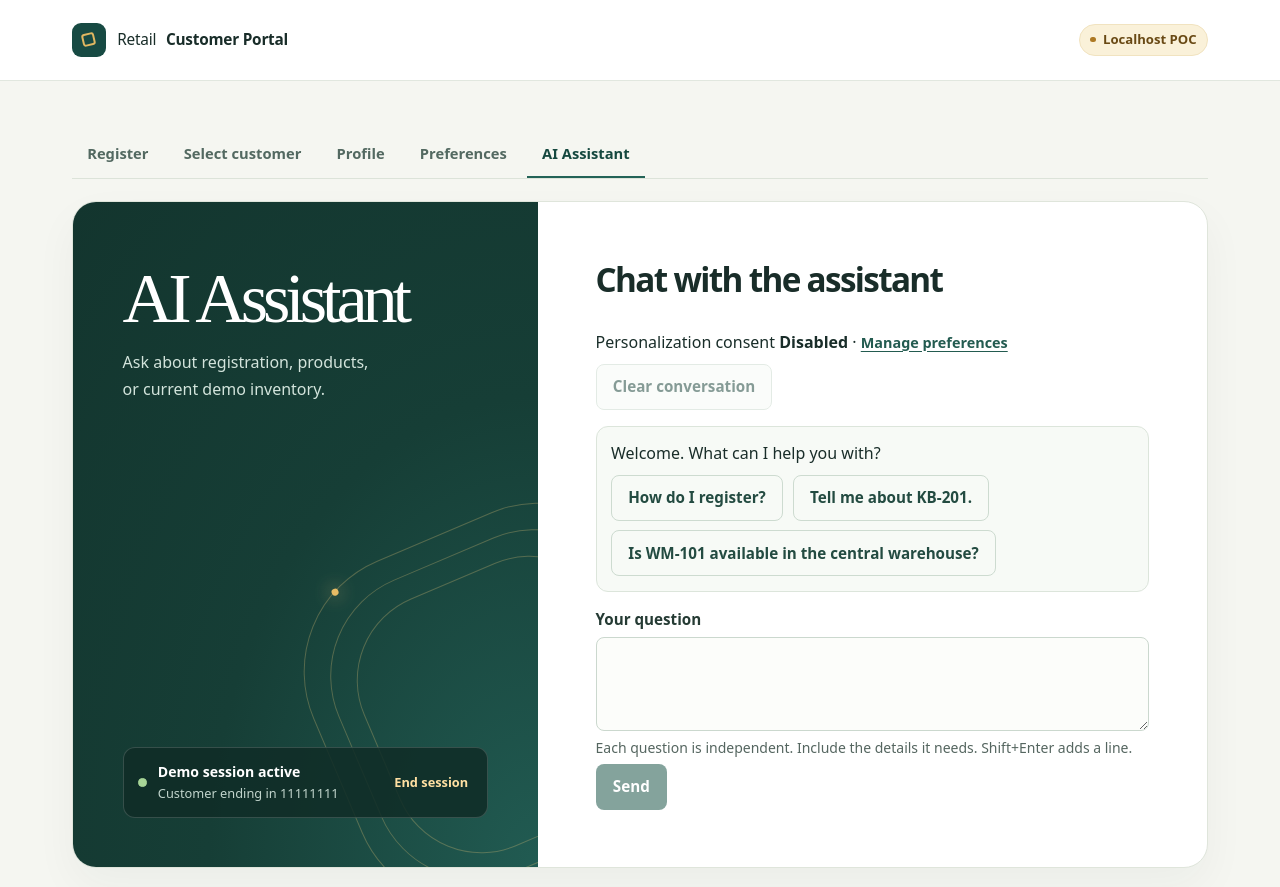
Test: ignores an outstanding response after clearing the conversation
Step 1. Type "How do I register?" into the text box labelled "Your question" → (872, 684), box [596,637,1149,732]
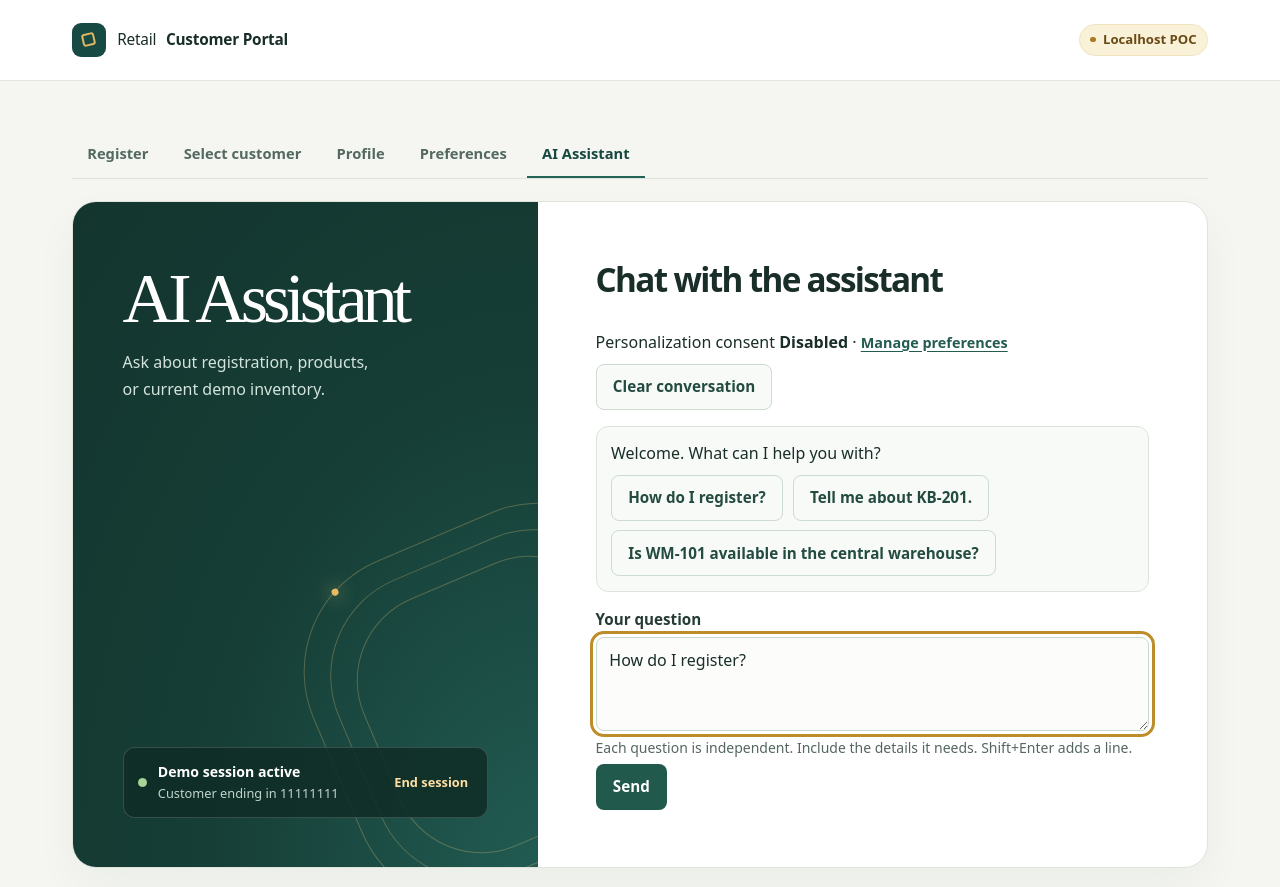
Step 2. Click the button "Send" → (631, 787), box [596,764,667,810]
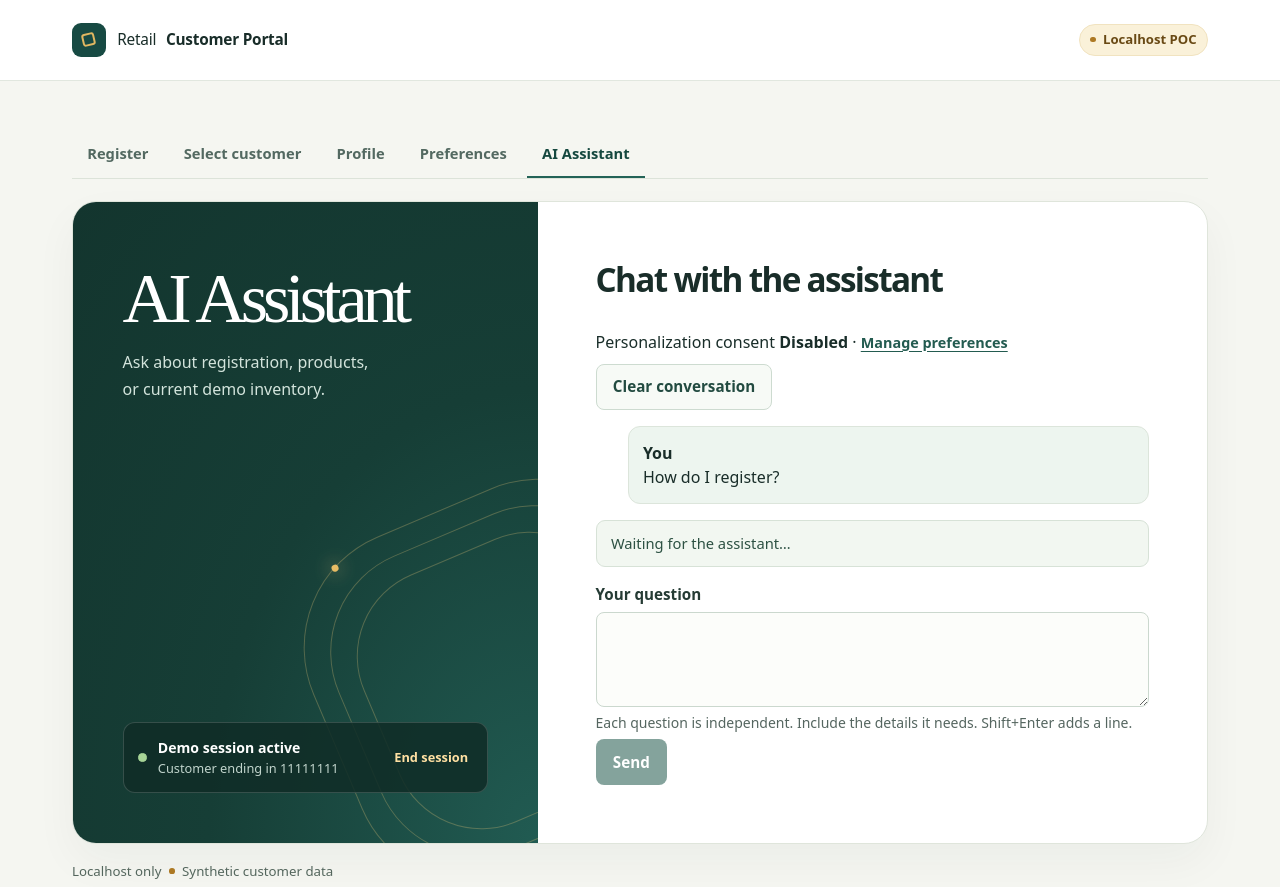
Step 3. Click the button "Clear conversation" → (684, 386), box [596,364,772,410]
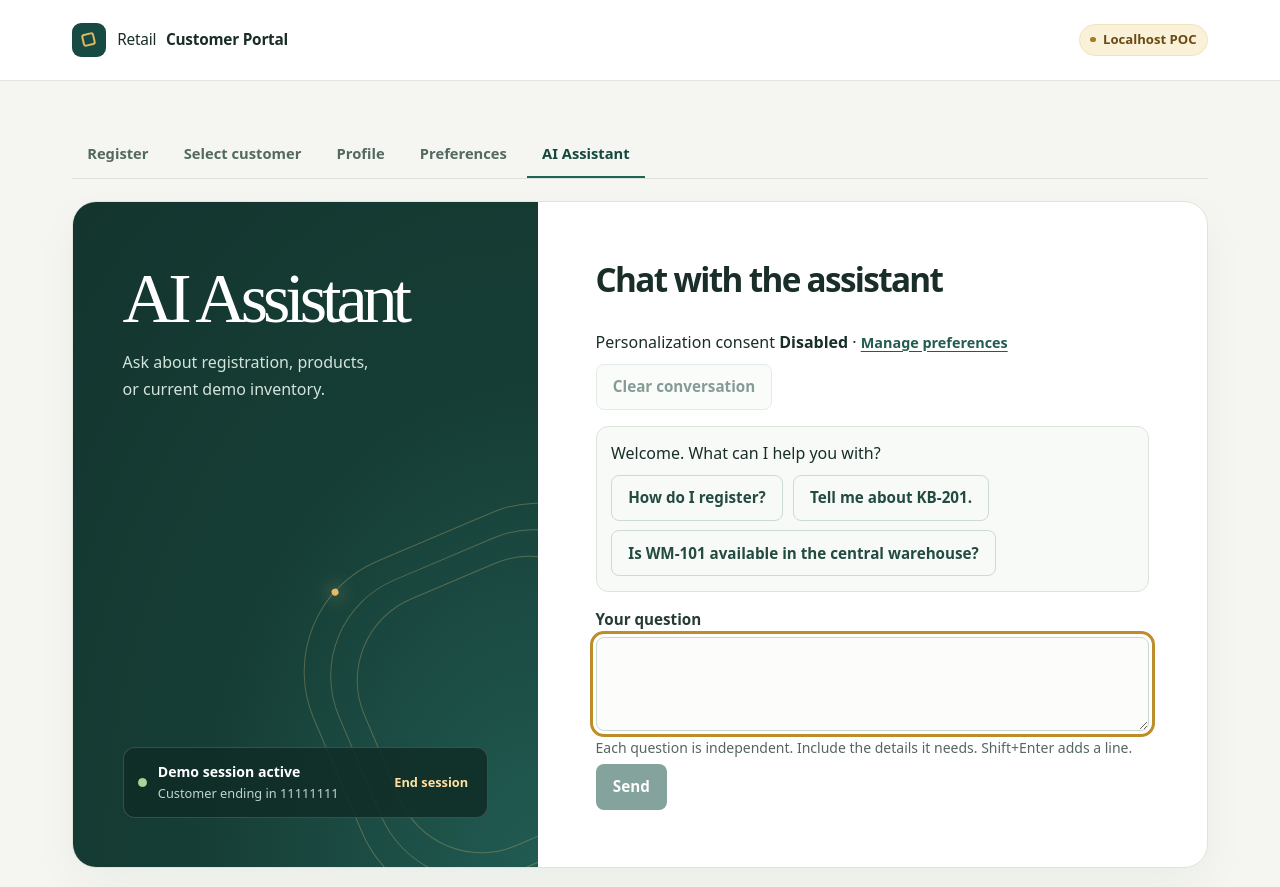
Check: the text "Welcome. What can I help you with?" is shown, box [611,442,881,464]
